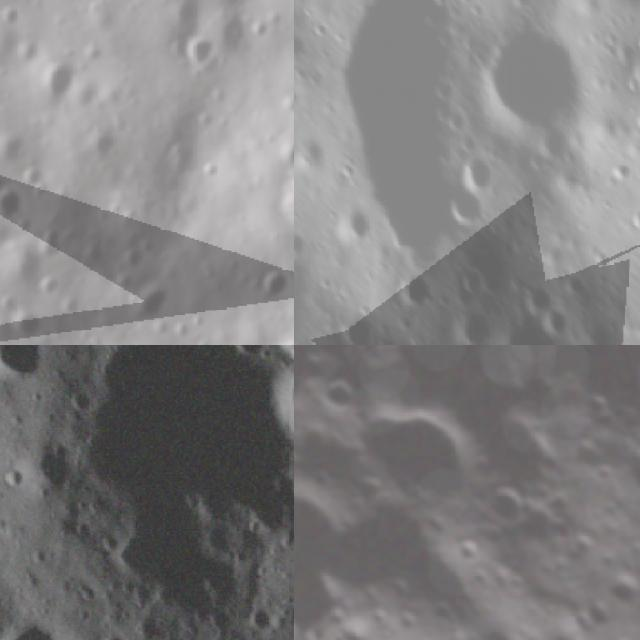crater: (0, 345, 294, 621), (338, 375, 498, 537), (472, 22, 586, 141), (254, 345, 294, 496), (0, 345, 67, 410), (0, 598, 85, 640), (314, 369, 368, 424), (491, 304, 562, 345), (30, 56, 82, 110), (488, 482, 538, 534), (123, 287, 178, 328), (440, 186, 490, 230), (601, 562, 640, 616), (457, 146, 497, 197), (332, 201, 373, 247), (569, 434, 611, 476), (294, 424, 336, 466), (450, 302, 488, 345), (394, 270, 434, 310), (180, 32, 218, 74), (229, 617, 294, 640), (579, 595, 618, 633), (332, 309, 372, 345), (294, 133, 330, 172), (10, 306, 47, 343), (256, 266, 290, 306), (566, 528, 602, 564), (0, 182, 31, 223), (452, 533, 486, 568), (584, 386, 618, 421), (165, 0, 202, 32), (39, 268, 73, 302), (454, 265, 490, 297), (522, 279, 554, 314), (35, 230, 71, 260), (78, 242, 109, 276), (466, 562, 497, 594), (82, 625, 148, 640), (554, 362, 585, 393), (269, 137, 294, 174), (115, 247, 148, 273), (208, 0, 260, 16), (389, 345, 427, 366), (503, 570, 531, 598), (396, 608, 423, 636), (60, 297, 86, 323), (0, 0, 21, 32), (341, 621, 374, 640), (368, 604, 392, 628), (540, 598, 563, 621), (202, 160, 224, 183), (624, 534, 640, 561), (629, 52, 640, 89), (357, 345, 402, 354), (601, 630, 640, 640), (632, 23, 640, 56)
